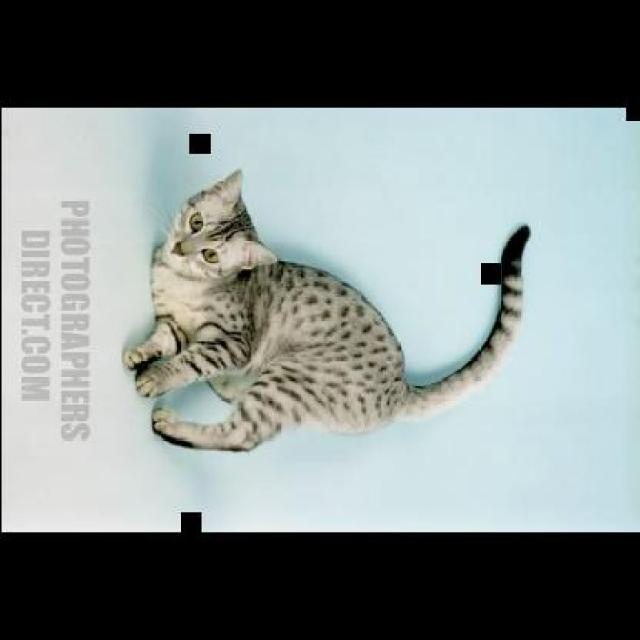unauthorized: (122, 168, 529, 452)
